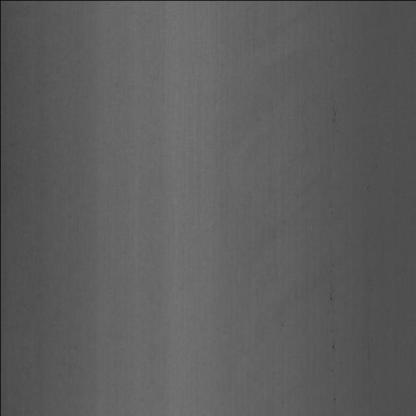inclusion: (327, 272, 337, 356)
